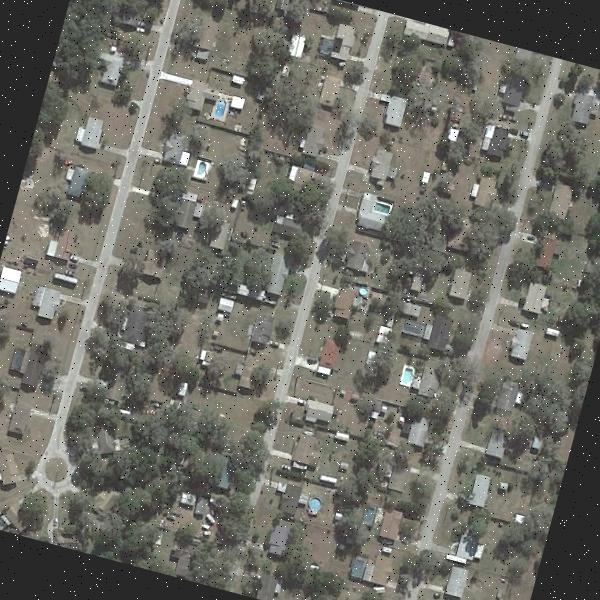Buildings: (197, 90, 255, 136), (71, 103, 112, 154), (366, 142, 406, 184), (546, 171, 578, 219), (98, 46, 128, 90), (492, 376, 526, 414), (359, 193, 390, 230), (463, 469, 492, 508), (365, 548, 396, 584), (518, 276, 550, 310), (484, 430, 512, 461), (487, 121, 508, 160), (446, 562, 466, 600), (510, 328, 536, 357), (35, 288, 63, 314), (572, 91, 598, 118), (454, 264, 472, 300), (0, 263, 22, 292), (406, 422, 427, 450), (538, 236, 560, 260), (391, 467, 408, 494), (382, 510, 398, 534)
